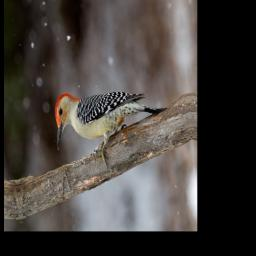Woodpecker: (53, 73, 171, 181)
